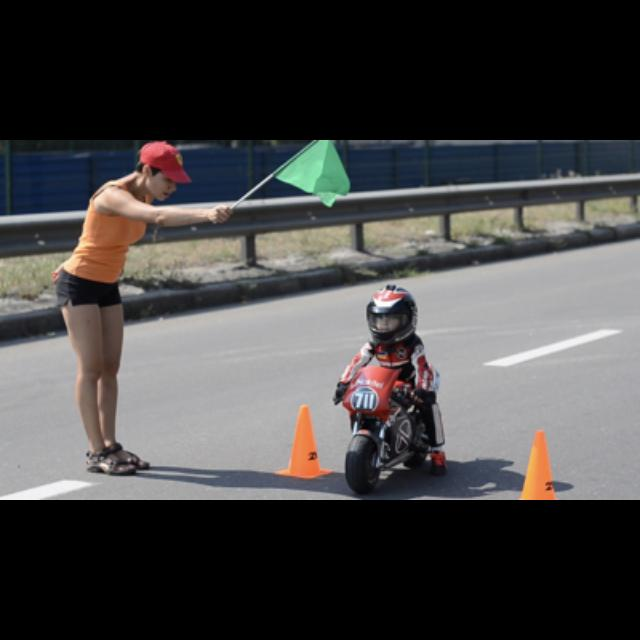With Helmet: (362, 282, 421, 346)
